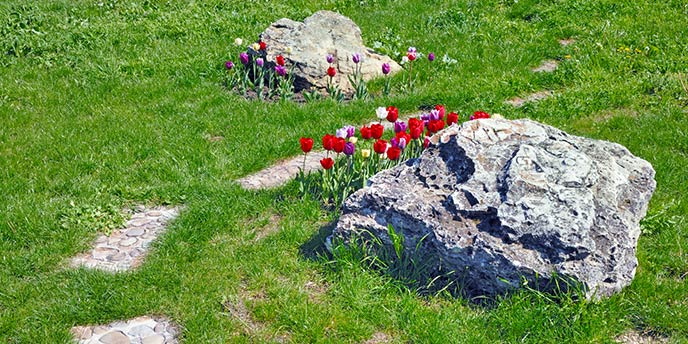grass: (3, 1, 243, 341), (409, 4, 683, 138), (339, 276, 680, 341), (247, 181, 333, 341)
rock: (322, 113, 656, 307), (245, 9, 407, 106)
